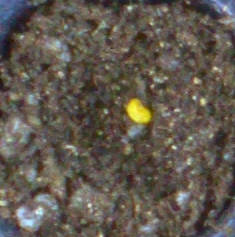chilli seed: (126, 99, 151, 123)
